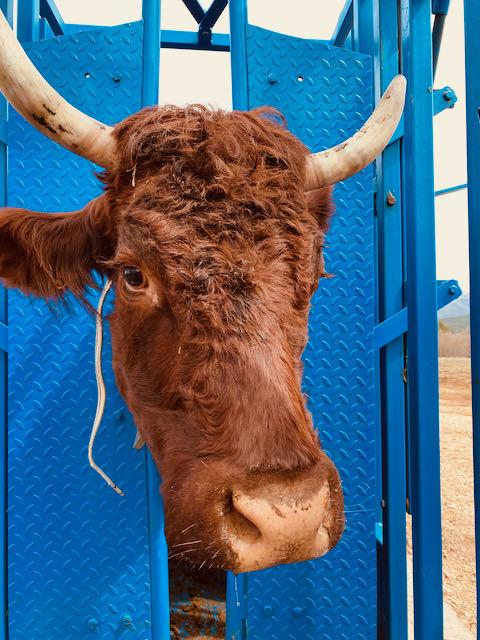muzzles: (164, 468, 346, 571)
